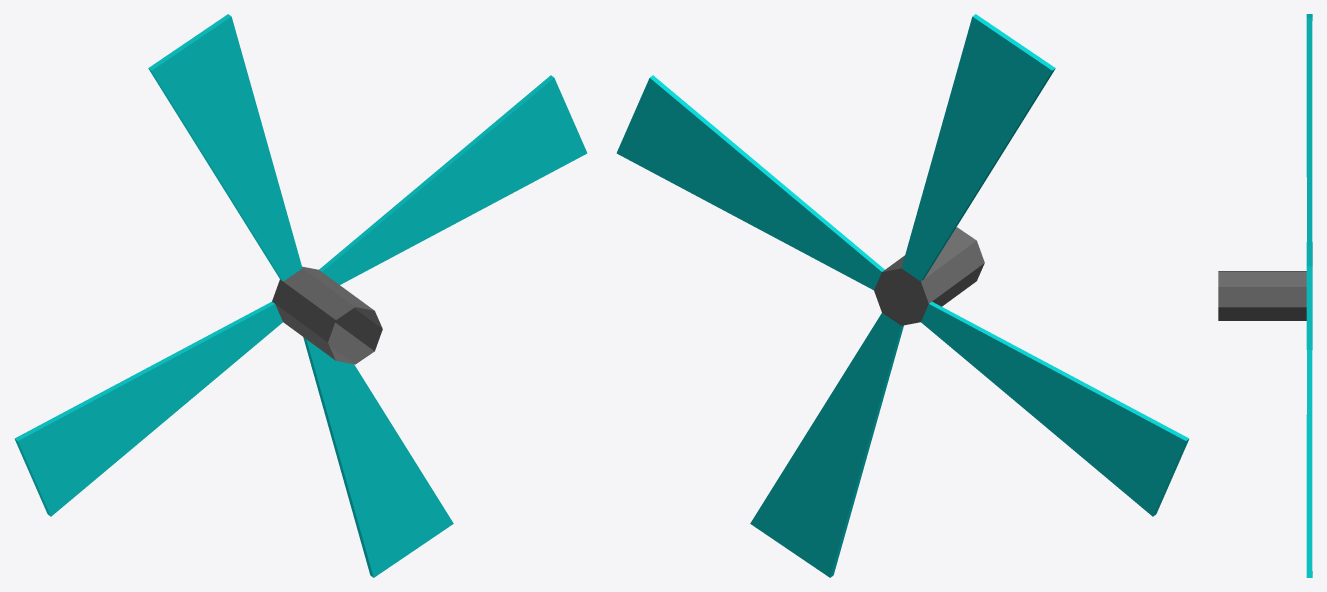
File: FBX_Windmill_Blades.fbx
3 renders of one model, left to right at view 1: azimuth 30°, elevation 25°; view 2: azimuth 150°, elevation 25°; view 3: azimuth 270°, elevation 25°, orthographic. The views are drawn at different scales.
Visible parts, largest first — view 1: Windmill_Blades; view 2: Windmill_Blades; view 3: Windmill_Blades.
Boxes of the visible parts, bbox=[...] form: Windmill_Blades: bbox=[14, 14, 587, 577]; Windmill_Blades: bbox=[616, 14, 1189, 577]; Windmill_Blades: bbox=[1218, 14, 1312, 577].
Bounding box in the file's own units: 311 × 311 × 53.15.
